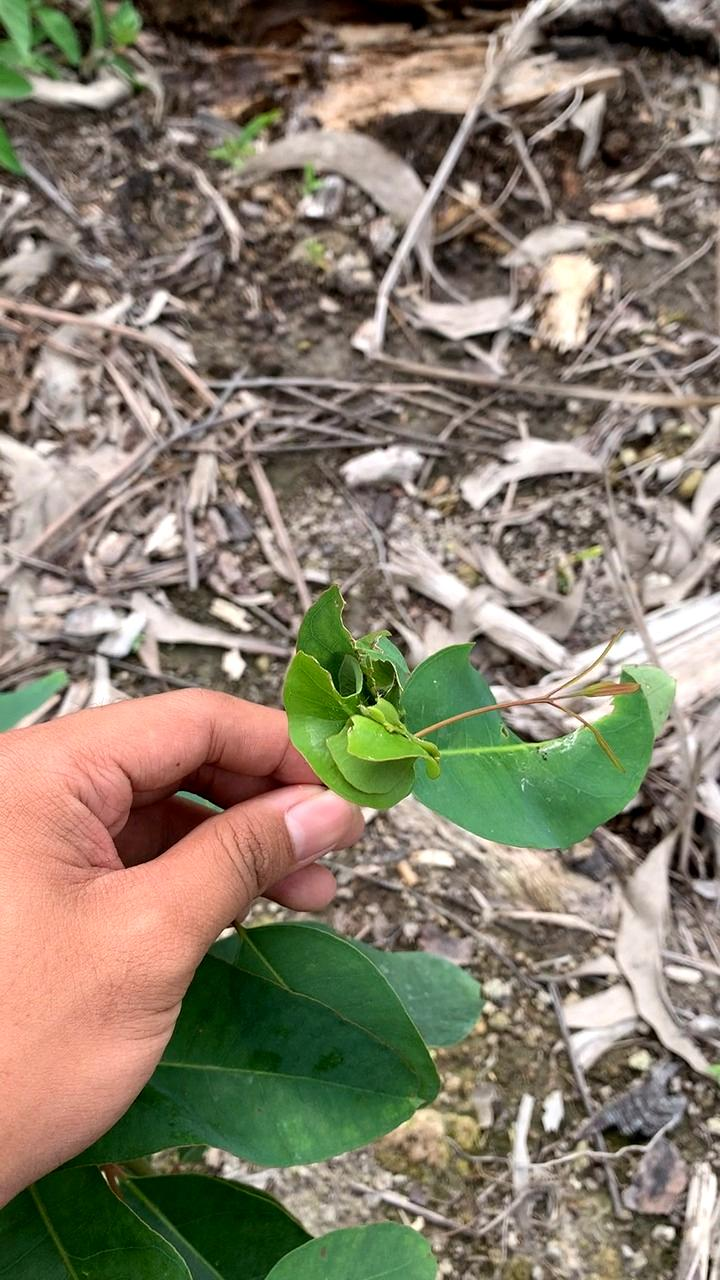Leaf Roller - Leaf: (269, 563, 450, 846)
